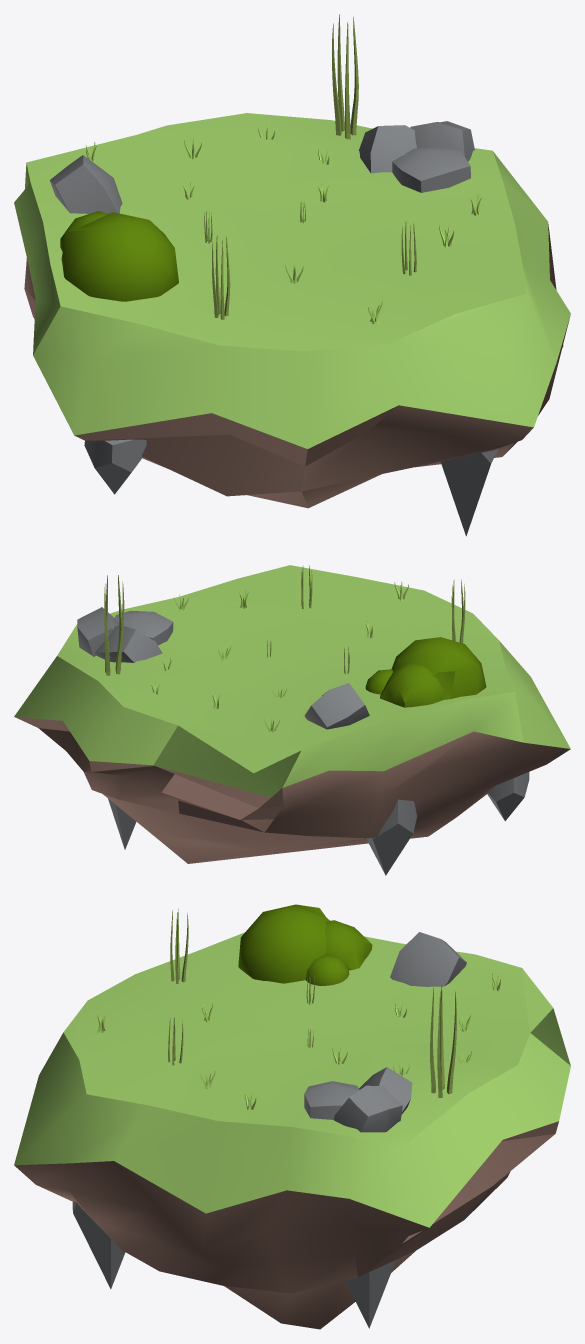
The model's file is small_island_spring_3.fbx.
3 views of the same model, one above another, from view 1: azimuth 30°, elevation 25°; view 2: azimuth 150°, elevation 25°; view 3: azimuth 270°, elevation 25° (orthographic). The views are drawn at different scales.
Visible parts, largest first — view 1: Island_Spring_3.001; view 2: Island_Spring_3.001; view 3: Island_Spring_3.001.
Boxes of the visible parts, box(x1,y1,x2,y2) form: Island_Spring_3.001: box(14, 14, 570, 536); Island_Spring_3.001: box(14, 565, 570, 875); Island_Spring_3.001: box(14, 904, 570, 1329).
Bounding box in the file's own units: 393 × 272 × 391.
